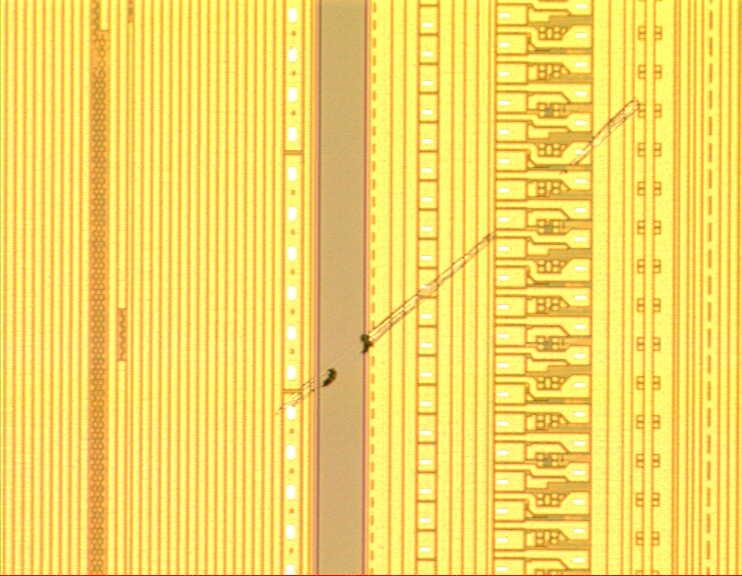SCRATCH: (264, 93, 649, 417)
